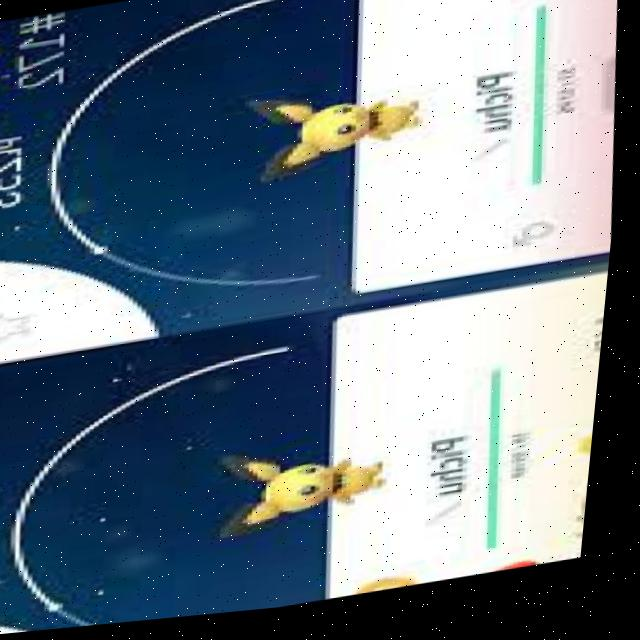pichu: (233, 68, 460, 207), (206, 426, 426, 554)
